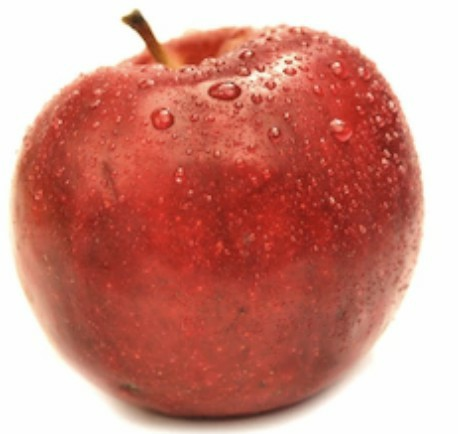fresh_apple: (16, 25, 426, 421)
